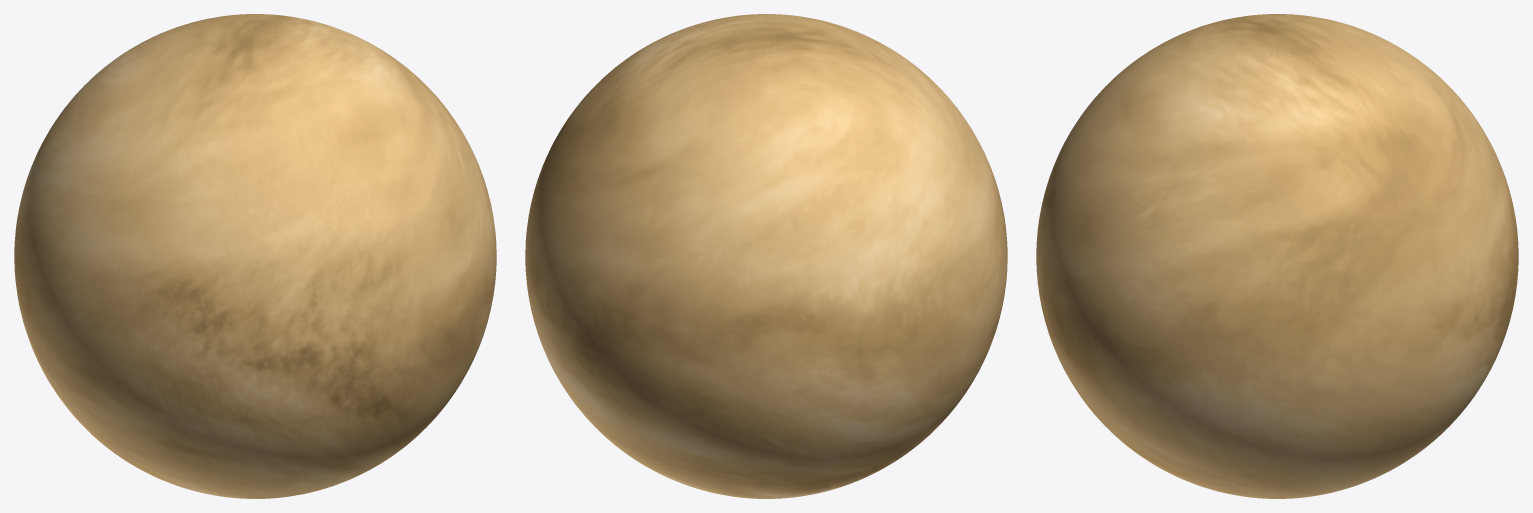
File: venus.glb
3 renders of one model, left to right at view 1: azimuth 30°, elevation 25°; view 2: azimuth 150°, elevation 25°; view 3: azimuth 270°, elevation 25°, orthographic.
Visible parts, largest first — view 1: Venus; view 2: Venus; view 3: Venus.
Boxes of the visible parts, box(x1,y1,x2,y2) form: Venus: box(14, 14, 496, 498); Venus: box(525, 14, 1007, 498); Venus: box(1036, 14, 1518, 498).
Bounding box in the file's own units: 0.4936 × 0.4988 × 0.4936.
Materials: 1 (1 with a texture image).
